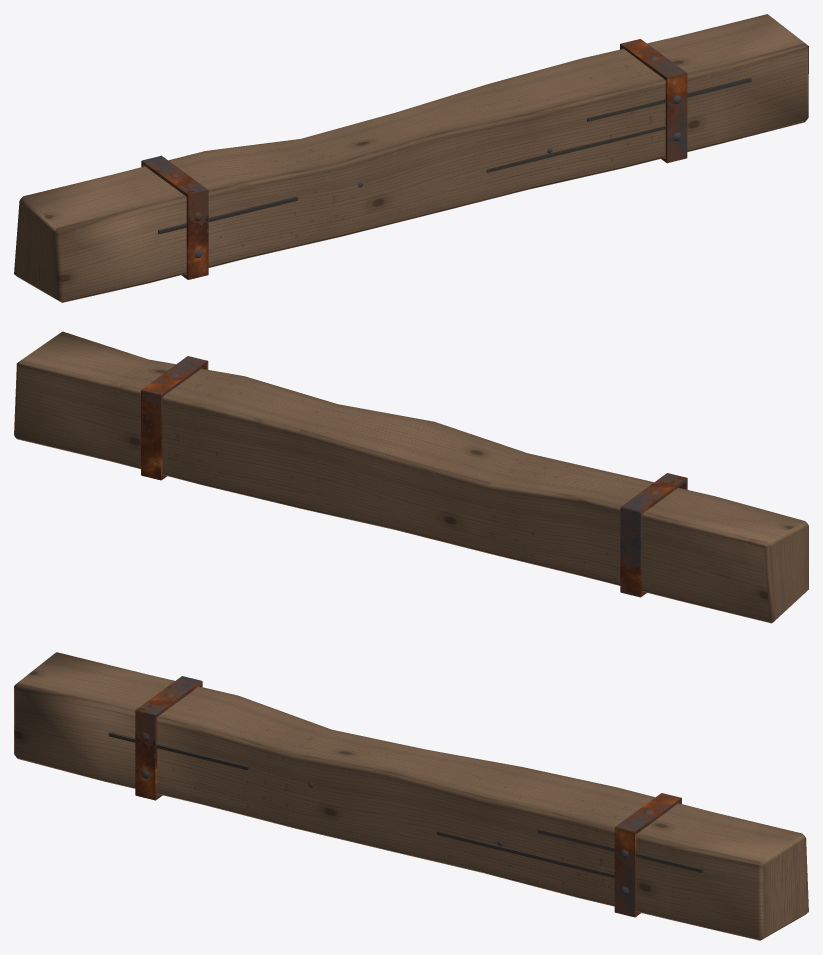
The model's file is Wooden_Beam.glb.
3 renders of one model, top to bottom at view 1: azimuth 30°, elevation 25°; view 2: azimuth 150°, elevation 25°; view 3: azimuth 330°, elevation 25°, orthographic.
Parts seen in each view (by area): view 1: Wooden_Beam; view 2: Wooden_Beam; view 3: Wooden_Beam.
Part boxes in pixels (x1,y1,x2,y2): Wooden_Beam: (14,14,808,302); Wooden_Beam: (14,331,808,623); Wooden_Beam: (14,652,808,940).
Bounding box in the file's own units: 3.02 × 0.336 × 0.336.
4 materials, 3 textured.
